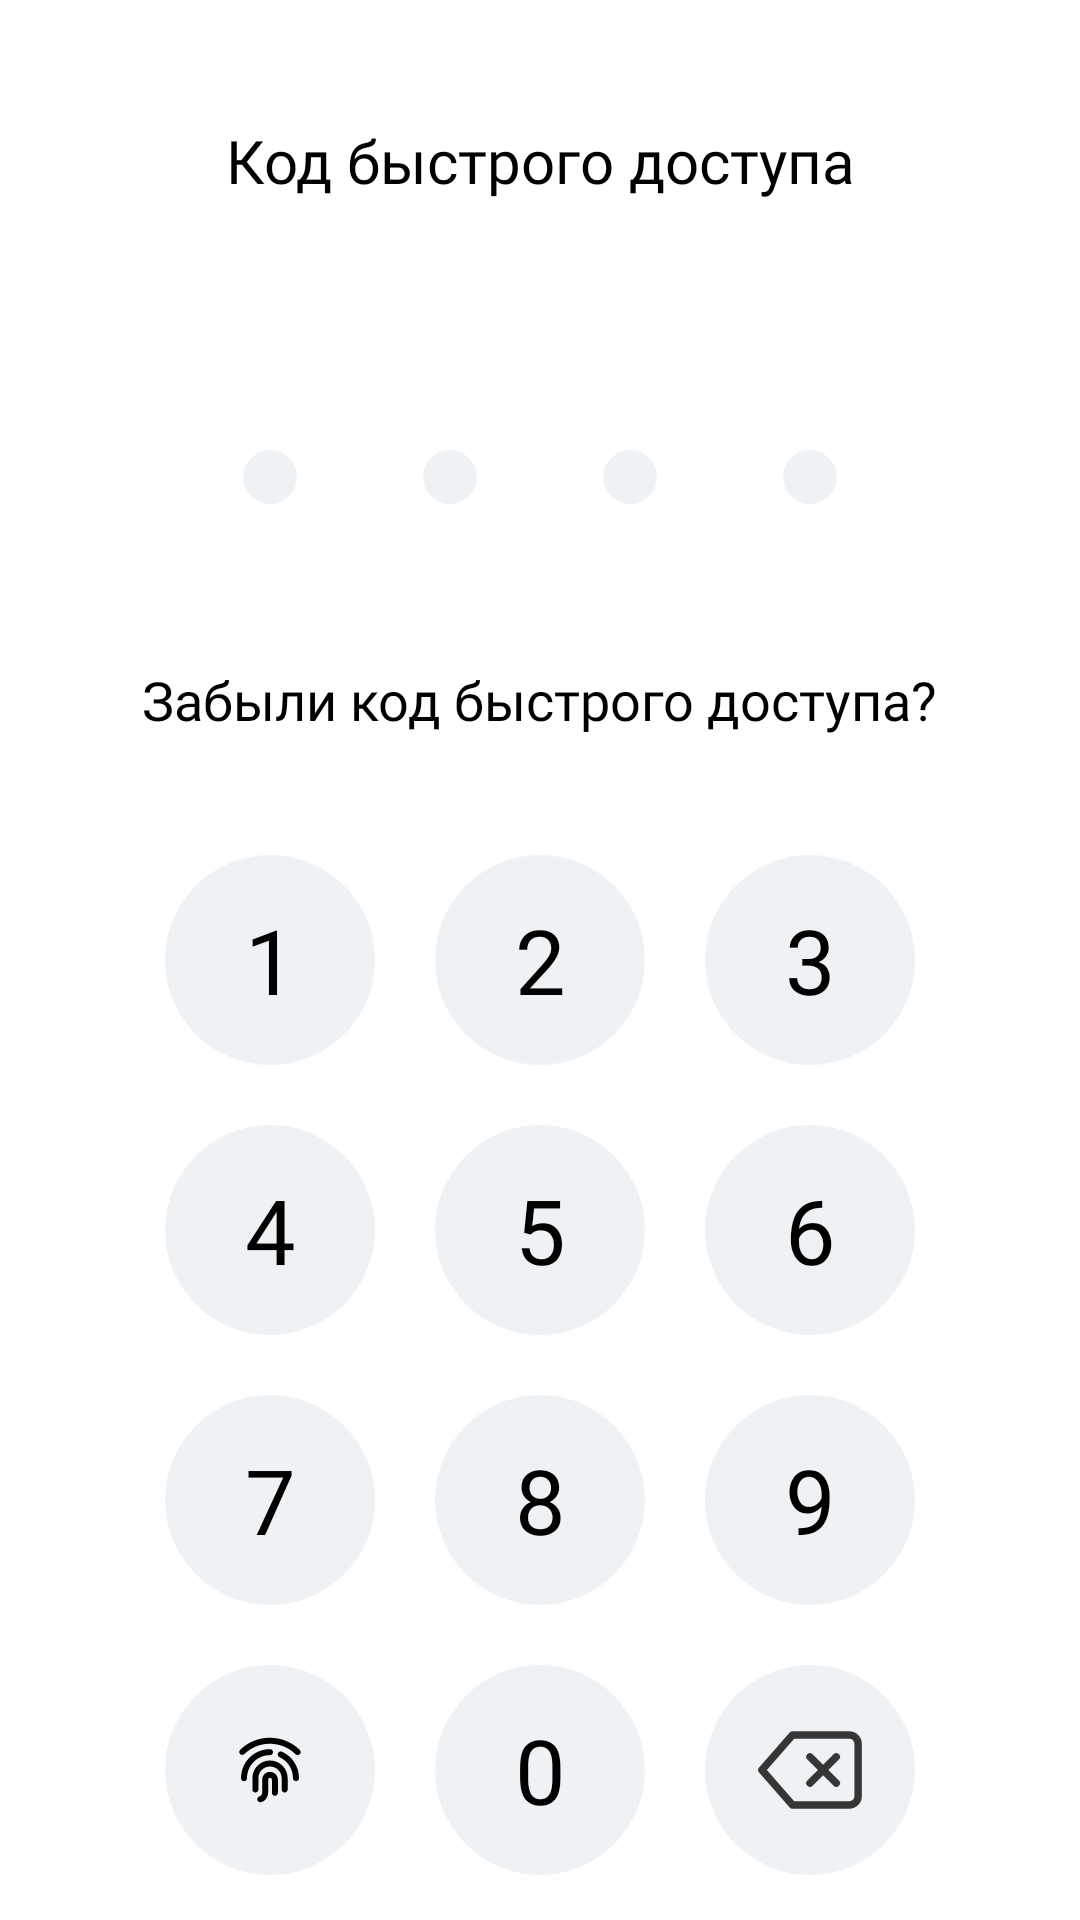

Point at icon controls on the screen. Image size 1080w x 1920h, points as [x,y].
delete: [810,1770]
fingerprint: [270,1770]
